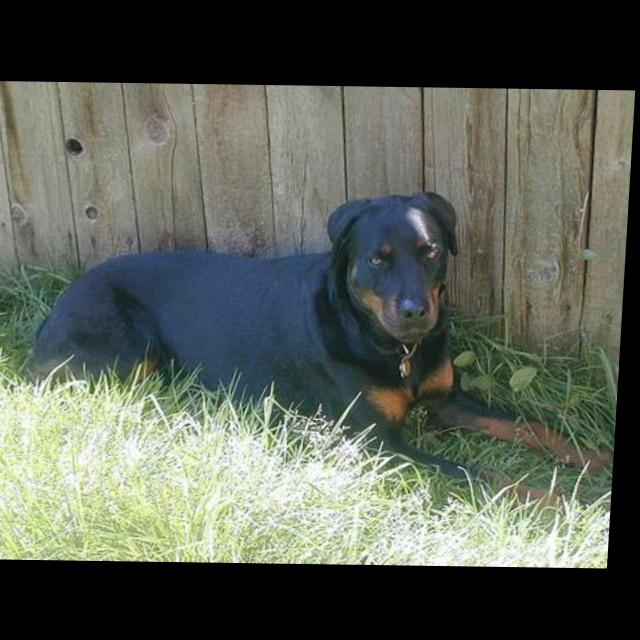rottweiler: (21, 186, 632, 516)
